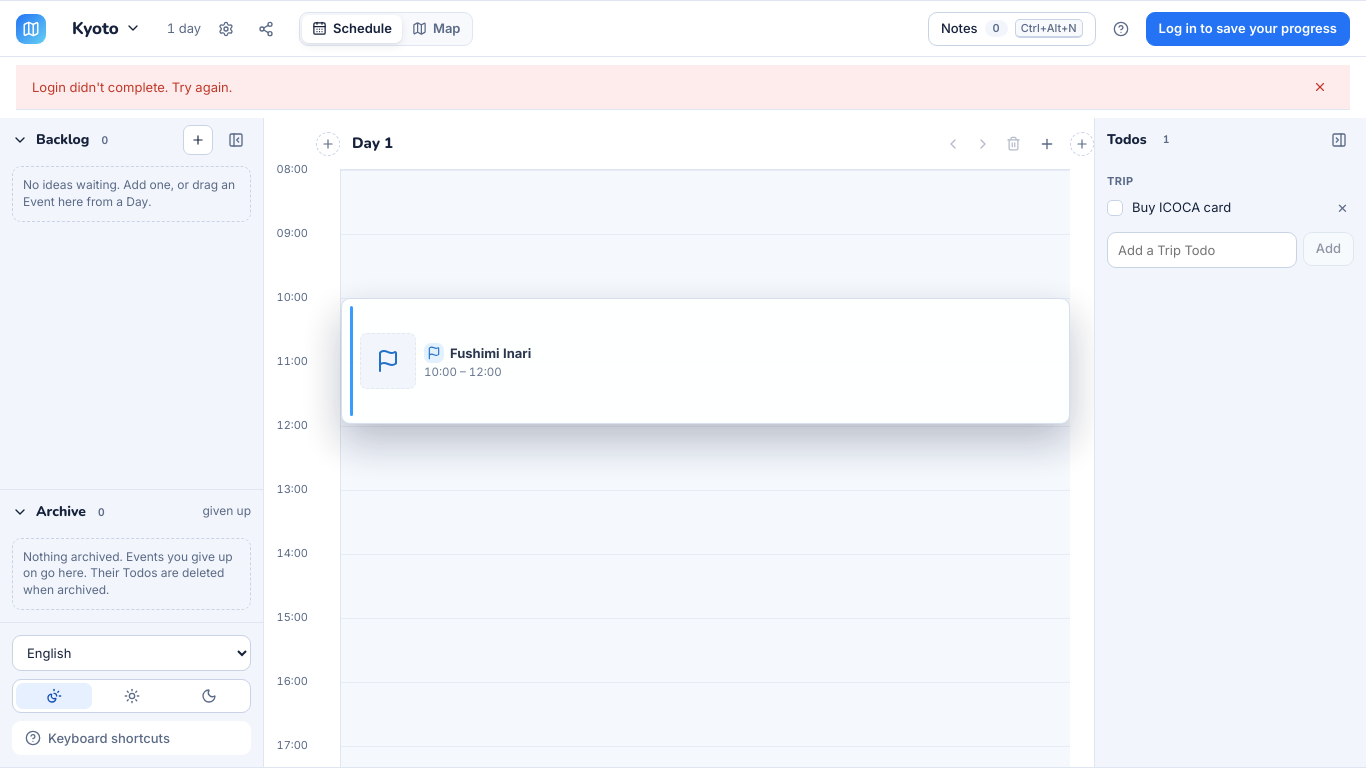
Scenario: after login › shows the login error strip only when Auth0 returned an error, and it can be dismissed
The width and height of the screenshot is (1366, 768).
Expected: the message reads "Login didn't complete. Try again.", [32,79,232,95]
Click the button named "Close".
click(1320, 87)  # box [1306,73,1334,101]
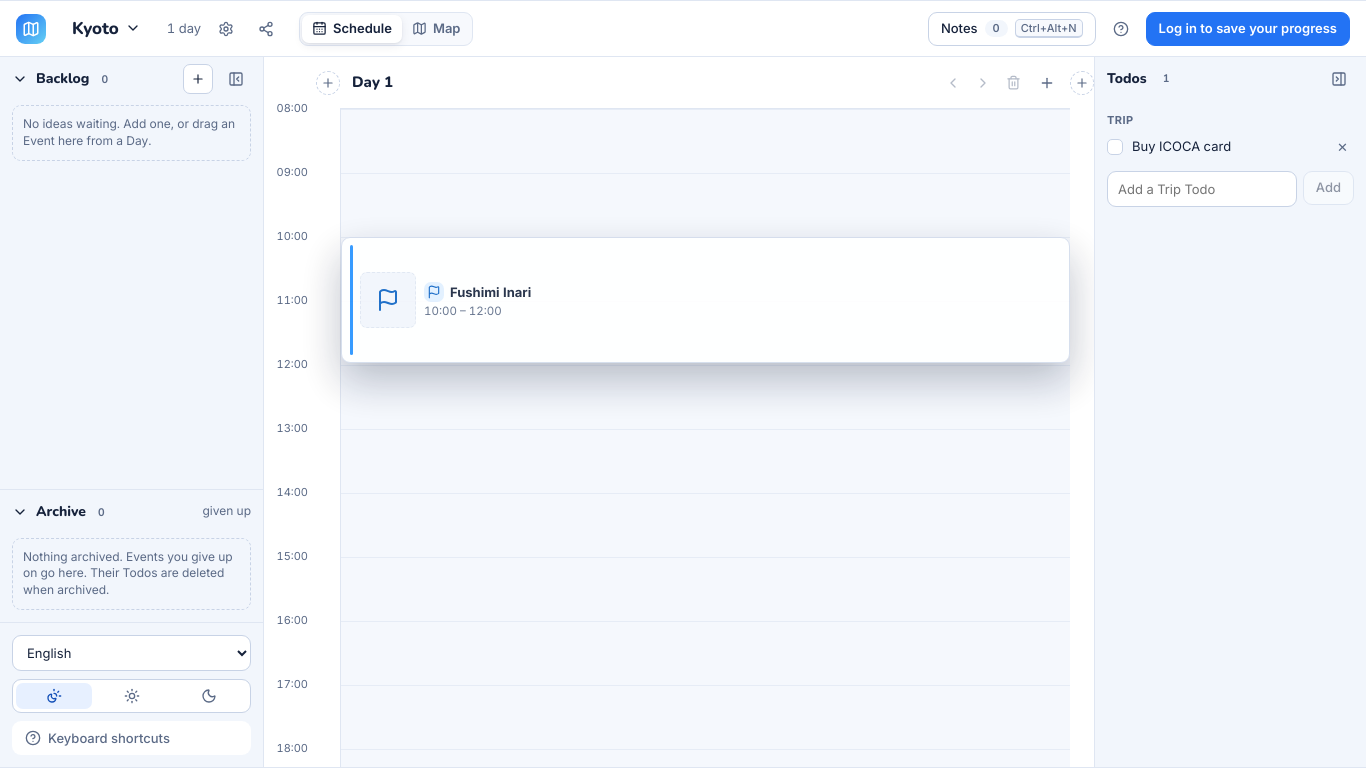
Expected: the text "Login didn't complete. Try again." is gone
